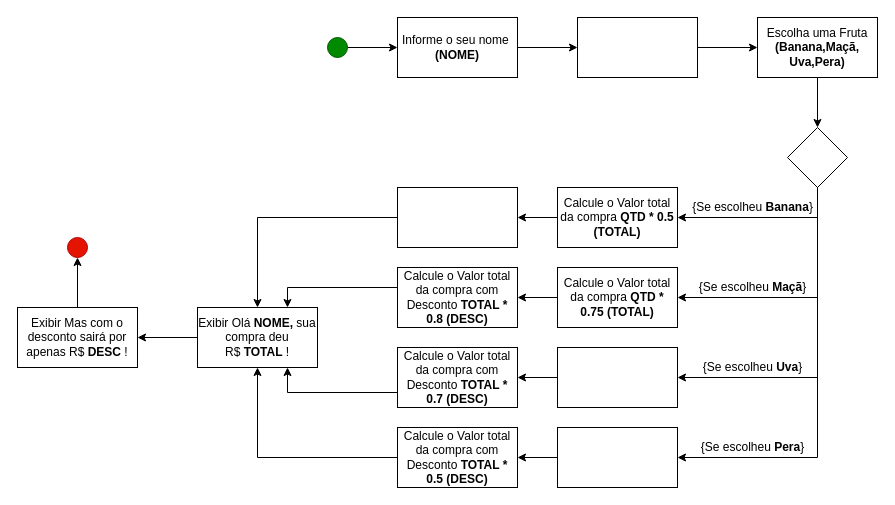
This 895x505 diagram has some shape labels left out. Each missing label, with the centre of its shape:
Calcule o Valor total da compra com Desconto TOTAL * 0.9 (DESC): pixel 457 217
Calcule o Valor total da compra QTD * 0.1 (TOTAL): pixel 617 377
Calcule o Valor total da compra QTD * 1 (TOTAL): pixel 617 457
Informe quantos itens comprou (QTD): pixel 637 47
